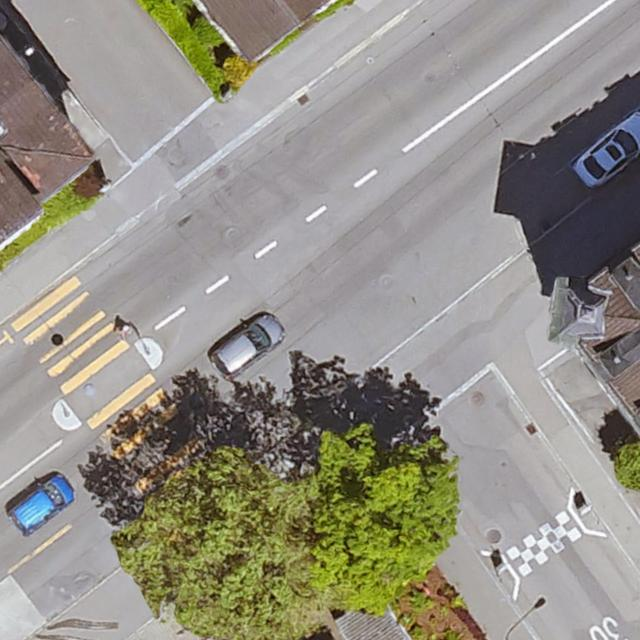tree: (118, 450, 311, 637), (307, 426, 454, 597), (615, 441, 640, 489)
